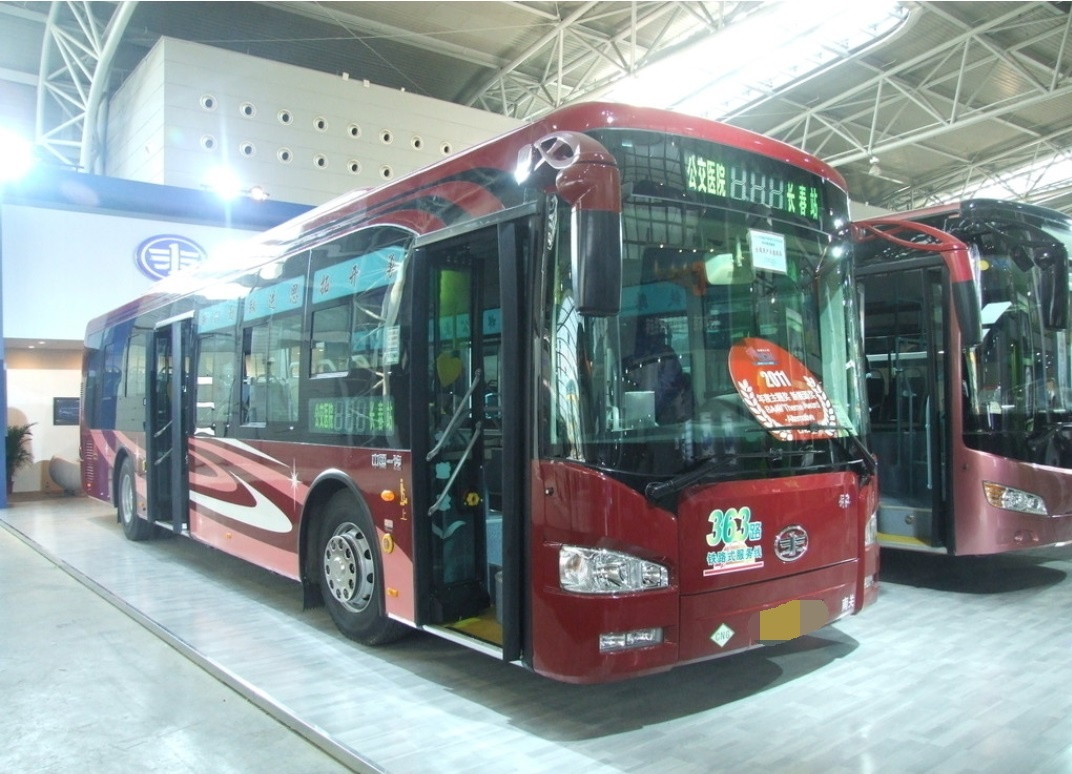bus: (75, 99, 988, 707)
